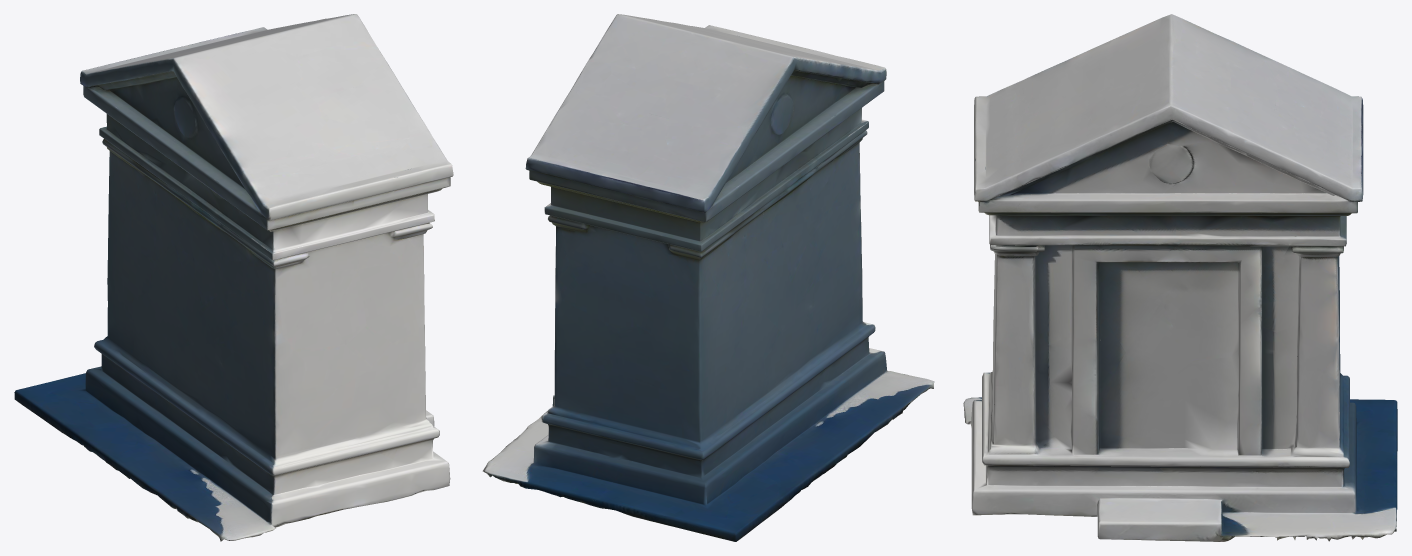
Rendered from tomb1.fbx.
3 views of the same model, side by side, from view 1: azimuth 30°, elevation 25°; view 2: azimuth 150°, elevation 25°; view 3: azimuth 270°, elevation 25° (orthographic). The views are drawn at different scales.
Visible parts, largest first — view 1: tripo_node_8eeb8691; view 2: tripo_node_8eeb8691; view 3: tripo_node_8eeb8691.
Part boxes in pixels (box(x1,y1,x2,y2)): tripo_node_8eeb8691: box(14, 14, 453, 541); tripo_node_8eeb8691: box(482, 14, 934, 541); tripo_node_8eeb8691: box(963, 14, 1397, 541).
Size of the model in its own units: 0.7044 by 1 by 0.935.
1 material, 1 textured.
